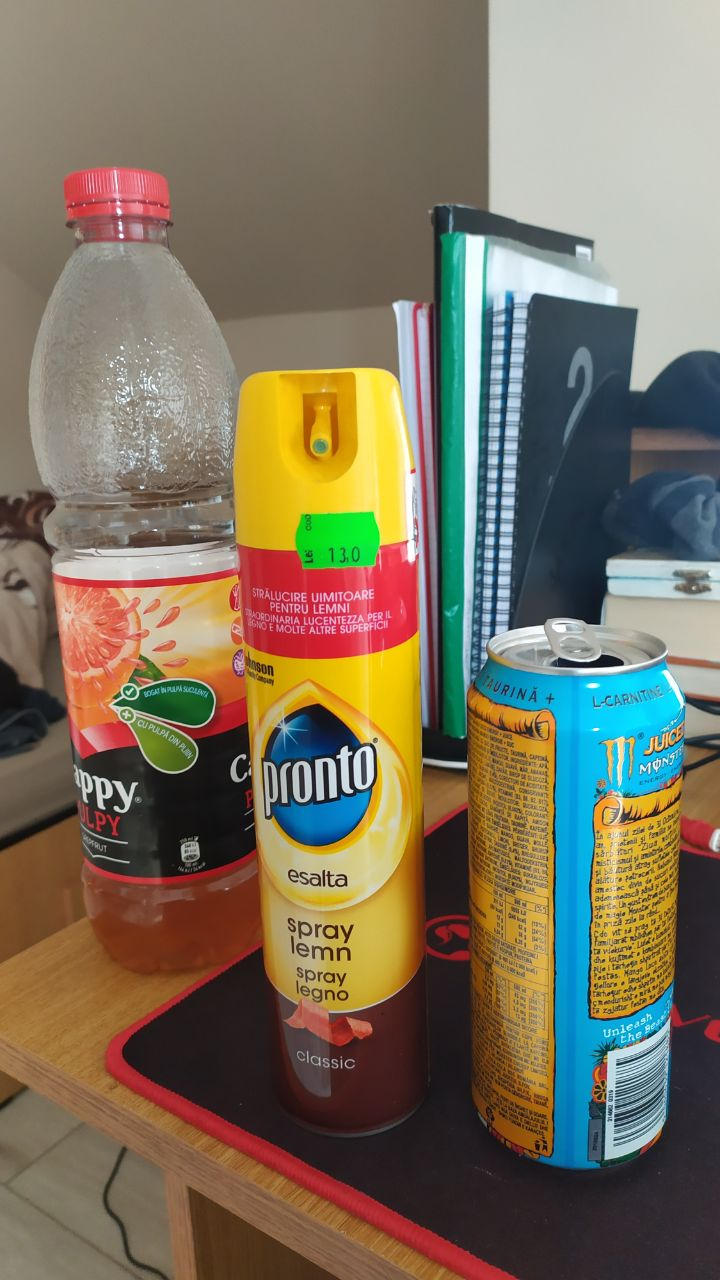Can: (459, 611, 692, 1179)
